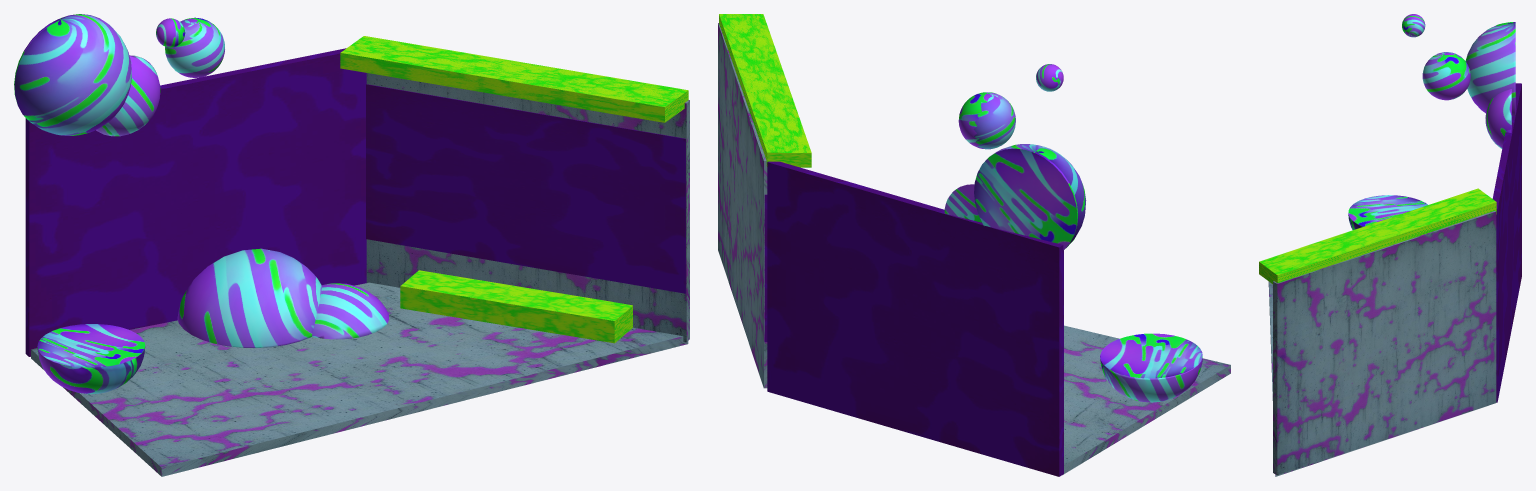
The model's file is sharkboottemplate.glb.
3 views of the same model, side by side, from view 1: azimuth 30°, elevation 25°; view 2: azimuth 150°, elevation 25°; view 3: azimuth 270°, elevation 25° (orthographic). The views are drawn at different scales.
Visible parts, largest first — view 1: Cube.001, Cube.004, Cube, Cube.003, Cube.005, Sphere.004, Sphere, Cube.002, Sphere.006, Sphere.005, Sphere.002, Sphere.001 (+1 smaller); view 2: Cube.001, Cube.003, Sphere, Cube, Cube.005, Sphere.006, Sphere.002, Sphere.001, Sphere.003, Cube.004; view 3: Cube.003, Cube.005, Cube.001, Sphere, Sphere.002, Sphere.006, Sphere.001, Cube, Sphere.003.
Boxes of the visible parts, bbox=[...] form: Cube.001: bbox=[25, 48, 366, 356]; Cube.004: bbox=[366, 84, 685, 293]; Cube: bbox=[31, 282, 688, 476]; Cube.003: bbox=[366, 73, 689, 342]; Cube.005: bbox=[340, 36, 688, 122]; Sphere.004: bbox=[177, 248, 322, 347]; Sphere: bbox=[14, 14, 131, 135]; Cube.002: bbox=[400, 270, 632, 343]; Sphere.006: bbox=[37, 324, 145, 394]; Sphere.005: bbox=[312, 283, 388, 339]; Sphere.002: bbox=[165, 17, 224, 77]; Sphere.001: bbox=[96, 55, 160, 136]; Cube.001: bbox=[767, 161, 1063, 476]; Cube.003: bbox=[718, 23, 767, 388]; Sphere: bbox=[974, 144, 1086, 250]; Cube: bbox=[1063, 325, 1230, 474]; Cube.005: bbox=[719, 14, 811, 167]; Sphere.006: bbox=[1100, 333, 1202, 402]; Sphere.002: bbox=[958, 92, 1015, 149]; Sphere.001: bbox=[944, 184, 981, 222]; Sphere.003: bbox=[1036, 64, 1063, 91]; Cube.004: bbox=[764, 194, 767, 341]; Cube.003: bbox=[1273, 211, 1496, 475]; Cube.005: bbox=[1259, 188, 1496, 284]; Cube.001: bbox=[1492, 83, 1521, 402]; Sphere: bbox=[1465, 22, 1515, 115]; Sphere.002: bbox=[1422, 52, 1470, 100]; Sphere.006: bbox=[1348, 195, 1427, 229]; Sphere.001: bbox=[1485, 89, 1511, 148]; Cube: bbox=[1268, 281, 1474, 476]; Sphere.003: bbox=[1402, 14, 1425, 37].
Size of the model in its own units: 6.89 by 4.2 by 3.41.
Materials: 4 (4 with a texture image).
